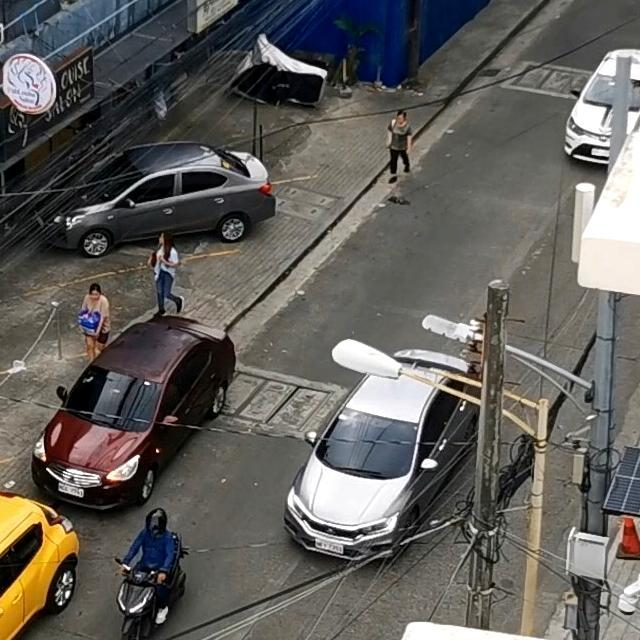Motorcycle: (101, 499, 190, 640)
